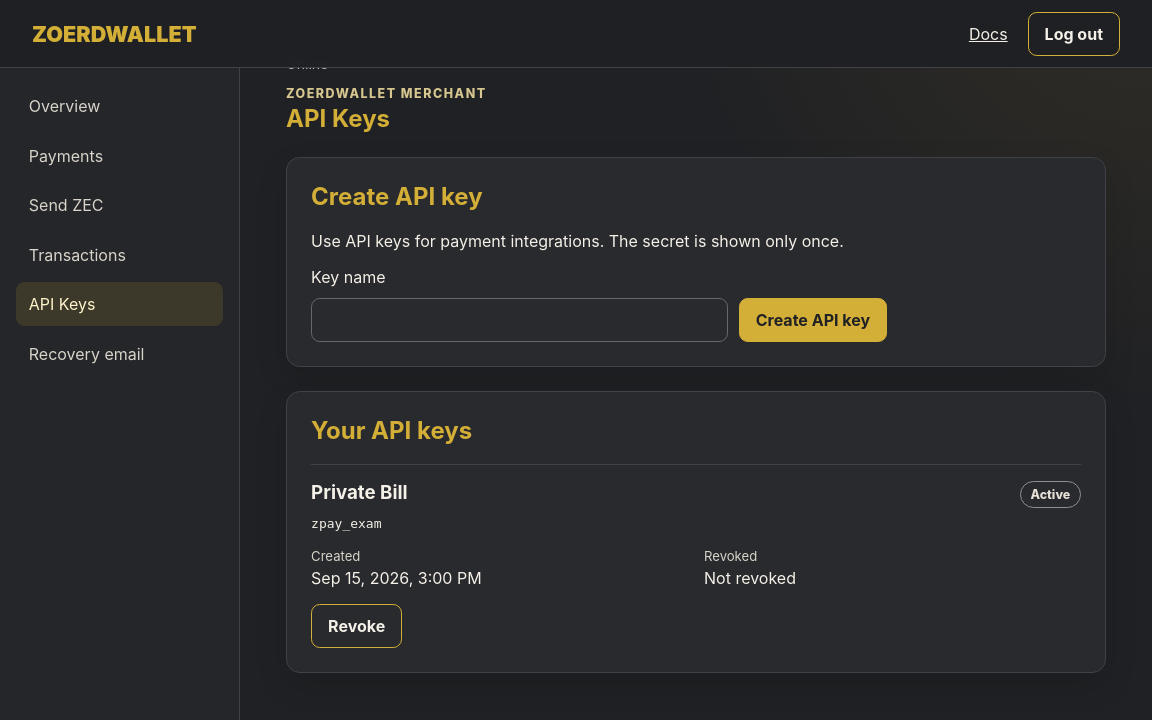
Test: API keys page › keeps revoke failures inside the alert dialog
(page scrolled)
Click the button with aria-label "Revoke Private Bill" at (357, 626), box 311,604 -> 402,648
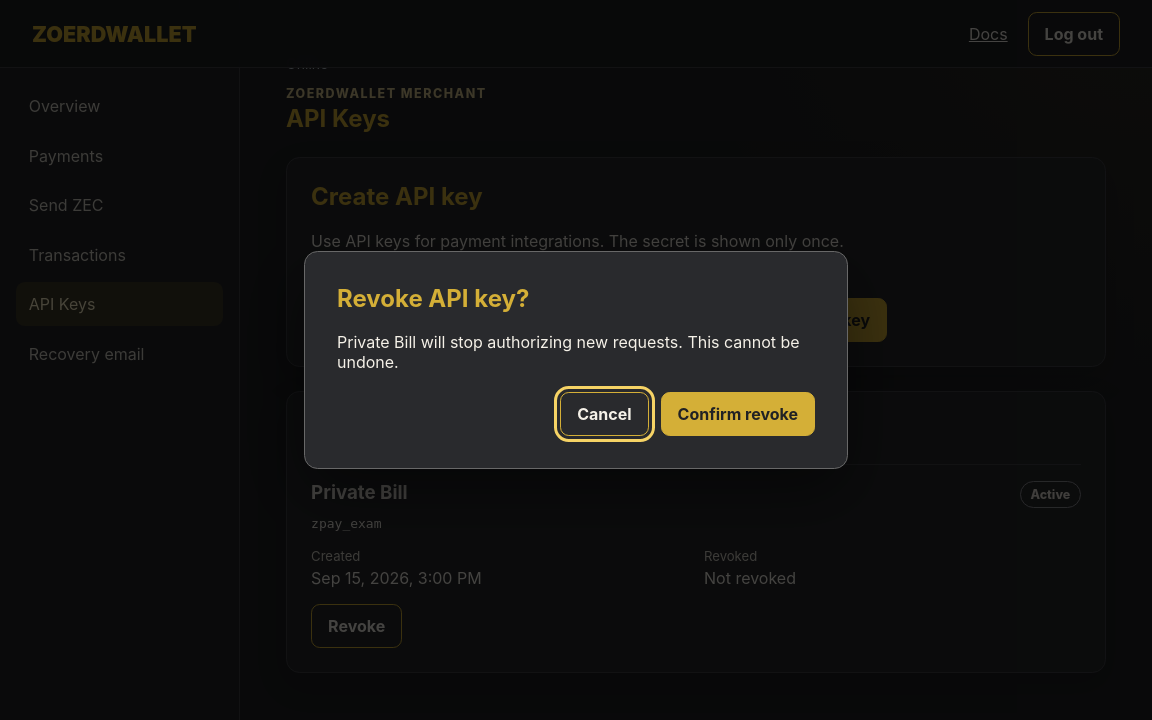
Click the button "Confirm revoke" at (738, 414), box 661,392 -> 815,436
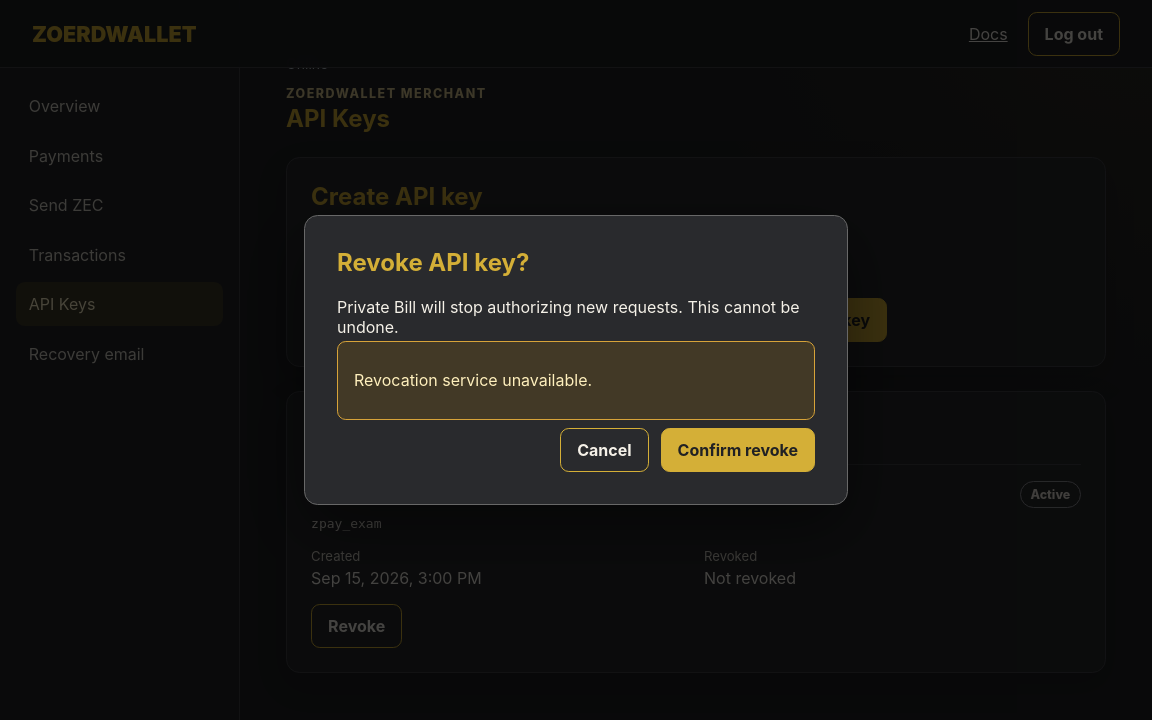
Expected: the dialog "Revoke API key?" is shown, 304,215 -> 848,505
Expected: the message reads "Revocation service unavailable.", 354,370 -> 592,390
